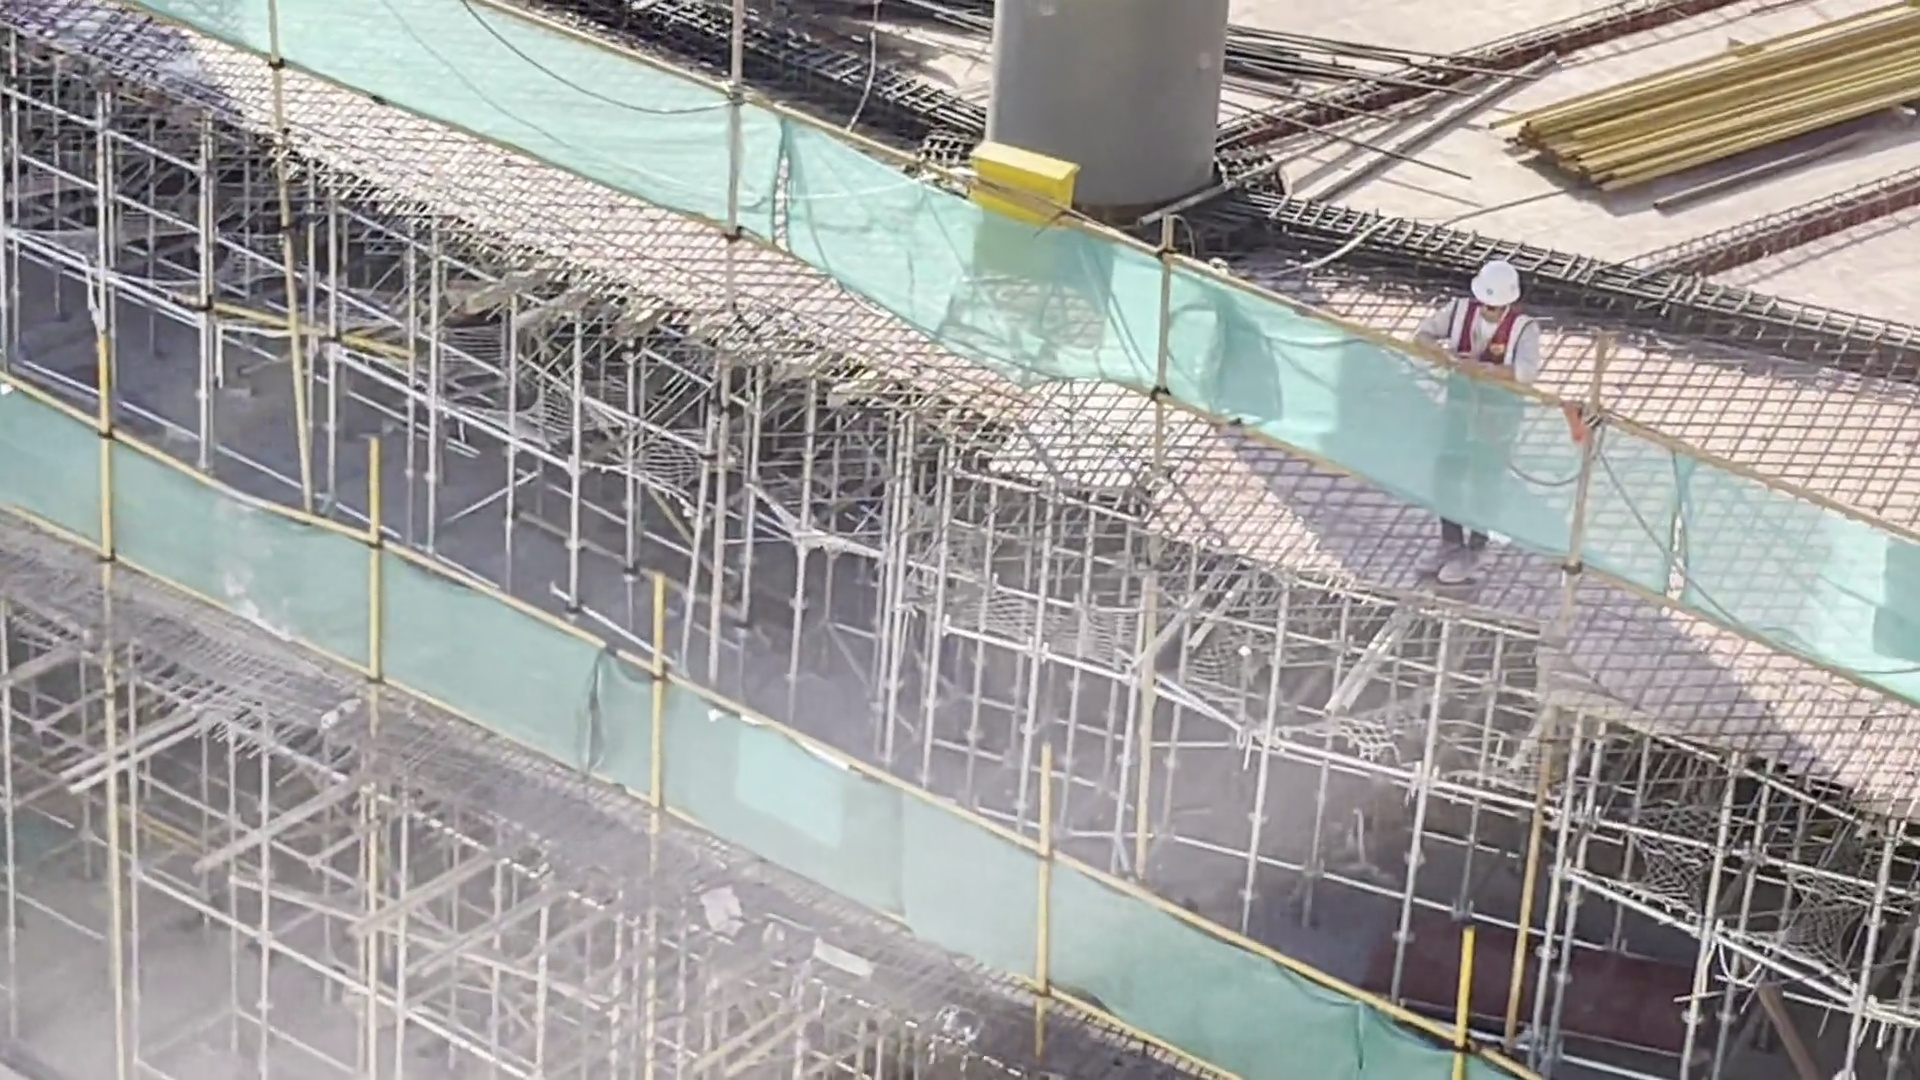helmet: (1465, 264, 1523, 315)
person: (1419, 239, 1540, 587)
vest: (1442, 311, 1523, 449)
